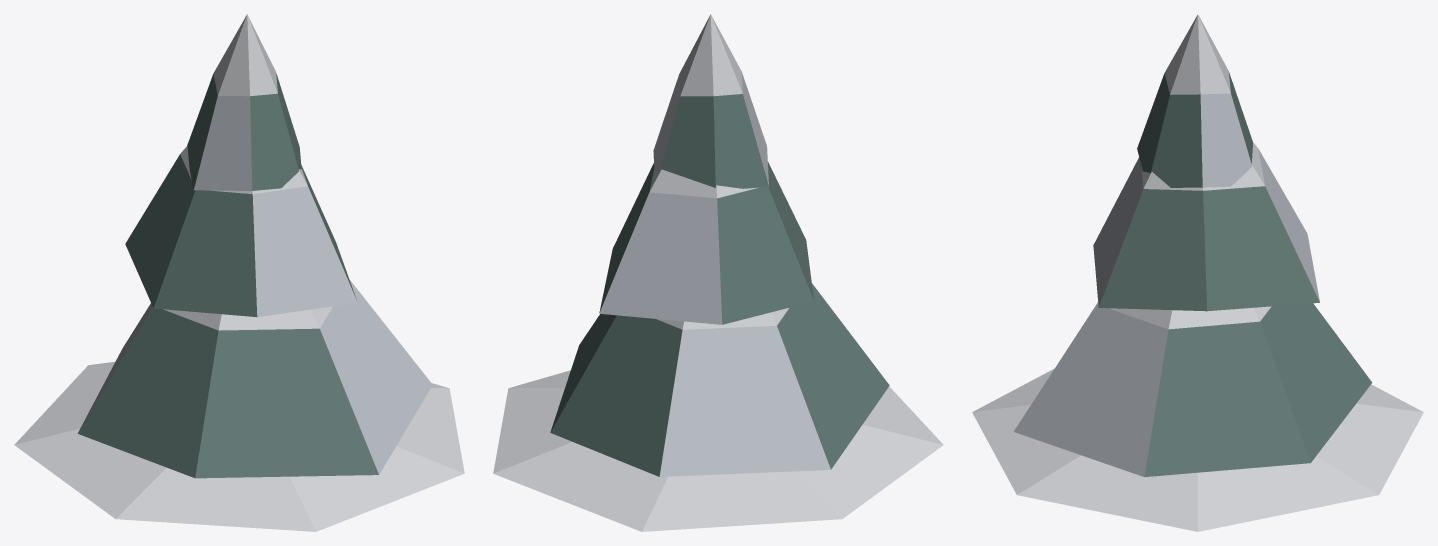
File: taimi_2.glb
3 views of the same model, side by side, from view 1: azimuth 30°, elevation 25°; view 2: azimuth 150°, elevation 25°; view 3: azimuth 270°, elevation 25° (orthographic).
Parts seen in each view (by area): view 1: taimi_2; view 2: taimi_2; view 3: taimi_2.
Boxes of the visible parts, x1,y1,x2,y2 form: taimi_2: [14, 14, 464, 531]; taimi_2: [493, 14, 943, 531]; taimi_2: [972, 14, 1423, 531].
Size of the model in its own units: 1.33 by 1.4 by 1.36.
